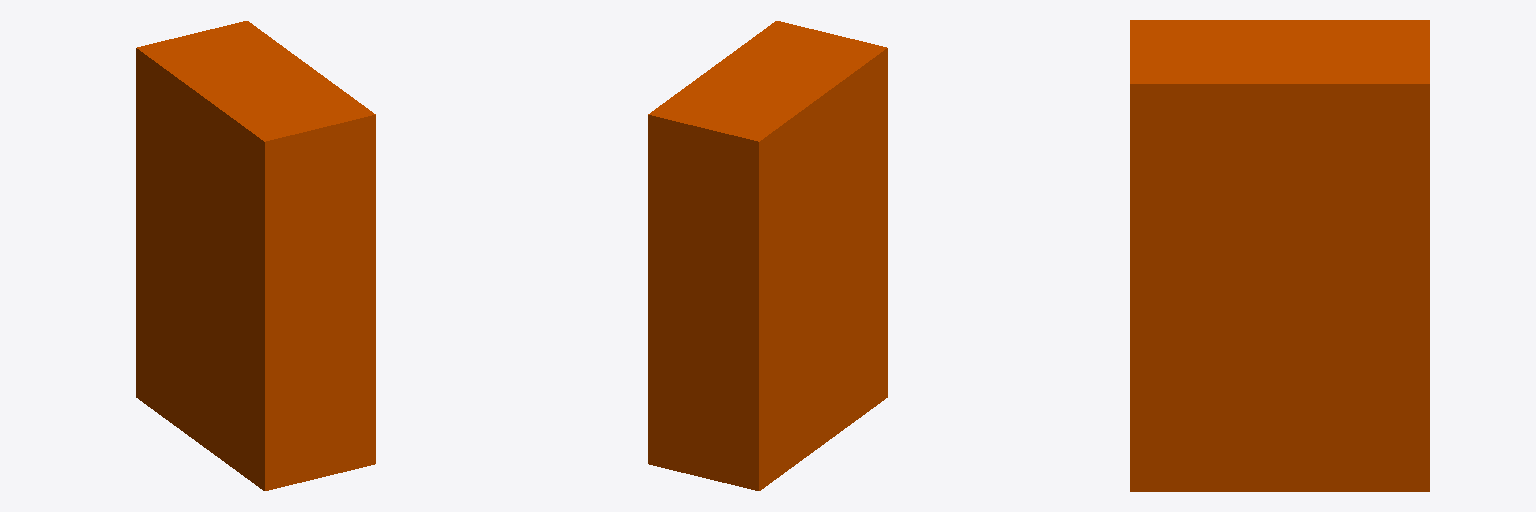
The robot description file, URDF, robot "ato":
<robot name="ato">
  <link name="base_link">
    <visual>
      <origin rpy="0 0 0" xyz="0 0 0"/>
      <geometry>
      <mesh filename="file:///tmp/pitch_range_180/BoneAugmented_urdf_mesh.stl"/>
      </geometry>
    </visual>
  </link>

  <joint name="base_link_to_joint_1" type="revolute">
    <axis xyz="0 0 1"/>
    <limit lower="-1.5708" upper="1.5708" effort="1.0" velocity="1.0"/>
    <parent link="base_link"/>
    <child link="joint_1"/>
    <origin xyz="0 0 0" rpy="0 0 0"/>
  </joint>

  <link name="joint_1">
    <visual>
      <origin rpy="0 0 0" xyz="0 0 0"/>
      <geometry>
      <mesh filename="file:///tmp/pitch_range_180/JointAugmented_urdf_mesh.stl"/>
      </geometry>
    </visual>
  </link>

  <joint name="joint_1_to_bone_1" type="revolute">
    <axis xyz="1 0 0"/>
    <limit lower="-1.48353" upper="1.48353" effort="1.0" velocity="1.0"/>
    <parent link="joint_1"/>
    <child link="bone_1"/>
    <origin xyz="0 0 200" rpy="0 0 0"/>
  </joint>

  <link name="bone_1">
    <visual>
      <origin rpy="0 0 0" xyz="0 0 0"/>
      <geometry>
      <mesh filename="file:///tmp/pitch_range_180/BoneAugmented_urdf_mesh.stl"/>
      </geometry>
    </visual>
  </link>

  <joint name="bone_1_to_joint_2" type="revolute">
    <axis xyz="0 0 1"/>
    <limit lower="-1.5708" upper="1.5708" effort="1.0" velocity="1.0"/>
    <parent link="bone_1"/>
    <child link="joint_2"/>
    <origin xyz="0 0 0" rpy="0 0 0"/>
  </joint>

  <link name="joint_2">
    <visual>
      <origin rpy="0 0 0" xyz="0 0 0"/>
      <geometry>
      <mesh filename="file:///tmp/pitch_range_180/JointAugmented_urdf_mesh.stl"/>
      </geometry>
    </visual>
  </link>

  <joint name="joint_2_to_bone_2" type="revolute">
    <axis xyz="1 0 0"/>
    <limit lower="-1.48353" upper="1.48353" effort="1.0" velocity="1.0"/>
    <parent link="joint_2"/>
    <child link="bone_2"/>
    <origin xyz="0 0 200" rpy="0 0 0"/>
  </joint>

  <link name="bone_2">
    <visual>
      <origin rpy="0 0 0" xyz="0 0 0"/>
      <geometry>
      <mesh filename="file:///tmp/pitch_range_180/BoneAugmented_urdf_mesh.stl"/>
      </geometry>
    </visual>
  </link>

  <joint name="bone_2_to_endeffector" type="fixed">
    <parent link="bone_2"/>
    <child link="endeffector_link"/>
    <origin xyz="0 0 147" rpy="0 0 0"/>
  </joint>

  <link name="endeffector_link">
    <visual>
      <origin rpy="0 0 0" xyz="0 0 0"/>
      <geometry>
       <box size="1 2 3"/>
      </geometry>
    </visual>
  </link>
</robot>

--- Render facts (derived) ---
The picture shows the robot from 3 angles, left to right: view 1: azimuth 30°, elevation 25°; view 2: azimuth 150°, elevation 25°; view 3: azimuth 270°, elevation 25°; orthographic projection.
Robot: ato — 6 links, 5 joints (4 revolute, 1 fixed); root link base_link; default pose: every joint at zero.
Visible links, largest first — view 1: endeffector_link; view 2: endeffector_link; view 3: endeffector_link.
Boxes of the visible links, x1,y1,x2,y2 form: endeffector_link: (136,21,375,490); endeffector_link: (648,21,887,490); endeffector_link: (1130,20,1429,491).
Size in the robot's own frame: 1 by 2 by 3 metres.
Geometry: only primitive shapes (box / cylinder / sphere) drawn; not drawn: 5 mesh visuals (reference in a form the renderer does not follow).